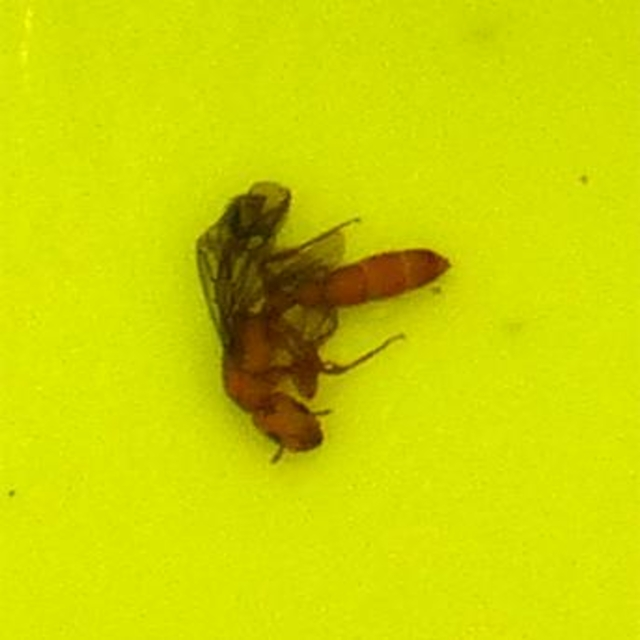Hymenoptera: (187, 173, 453, 467)
